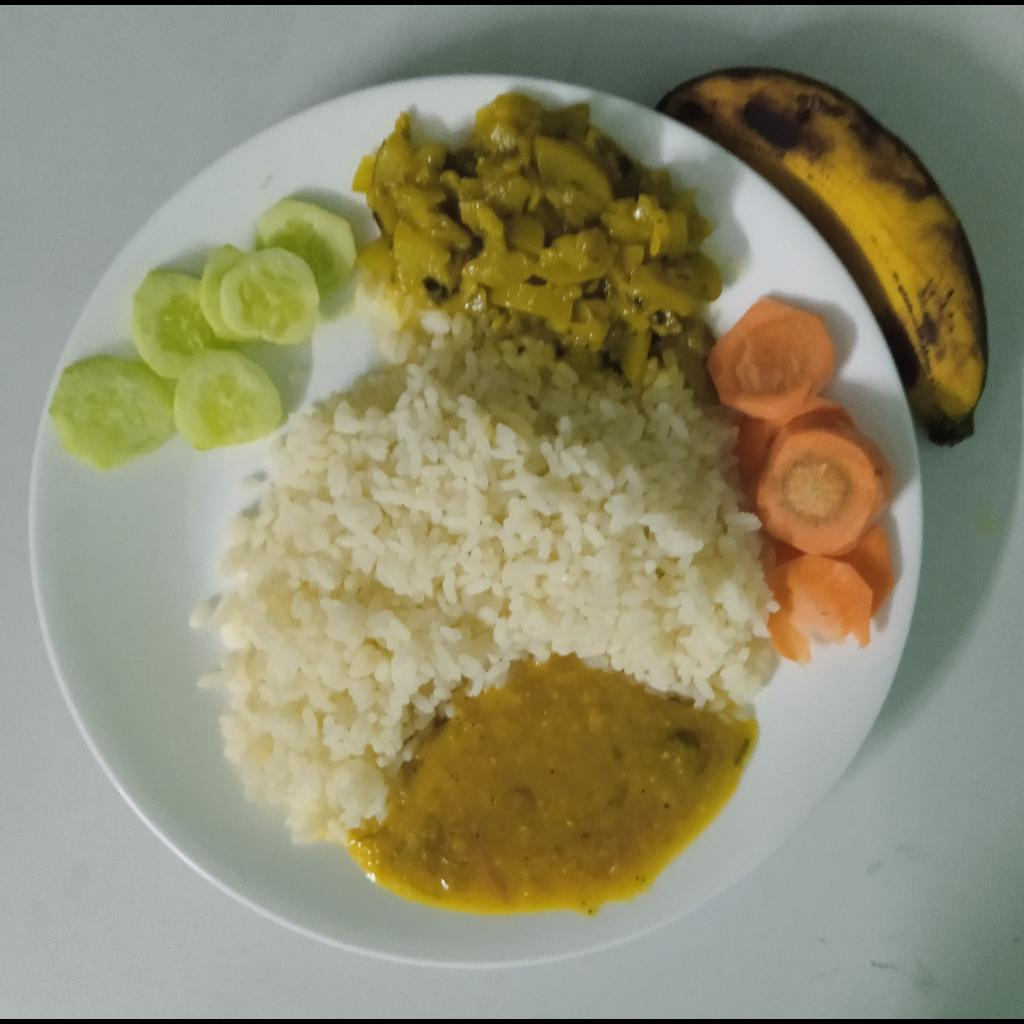banana: (653, 70, 993, 453)
carrot: (707, 297, 896, 666)
cucumber: (43, 193, 358, 473)
daal: (342, 656, 756, 916)
dundol: (352, 90, 723, 372)
rice: (192, 285, 776, 850)
